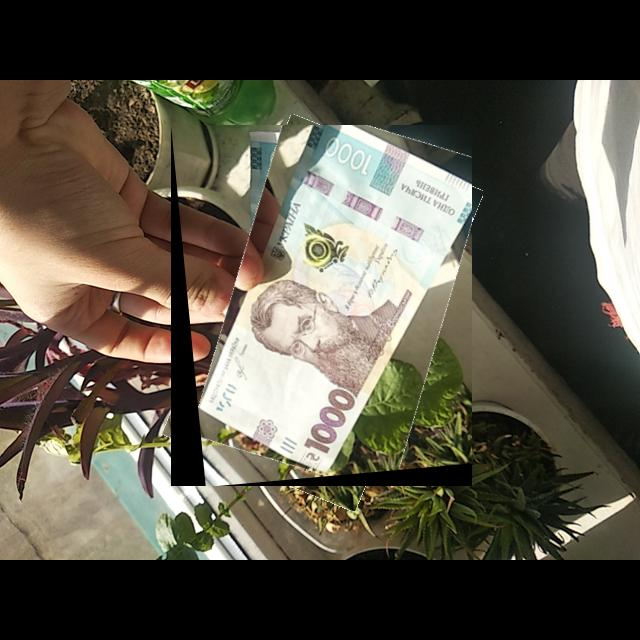1000uah: (193, 125, 473, 479)
